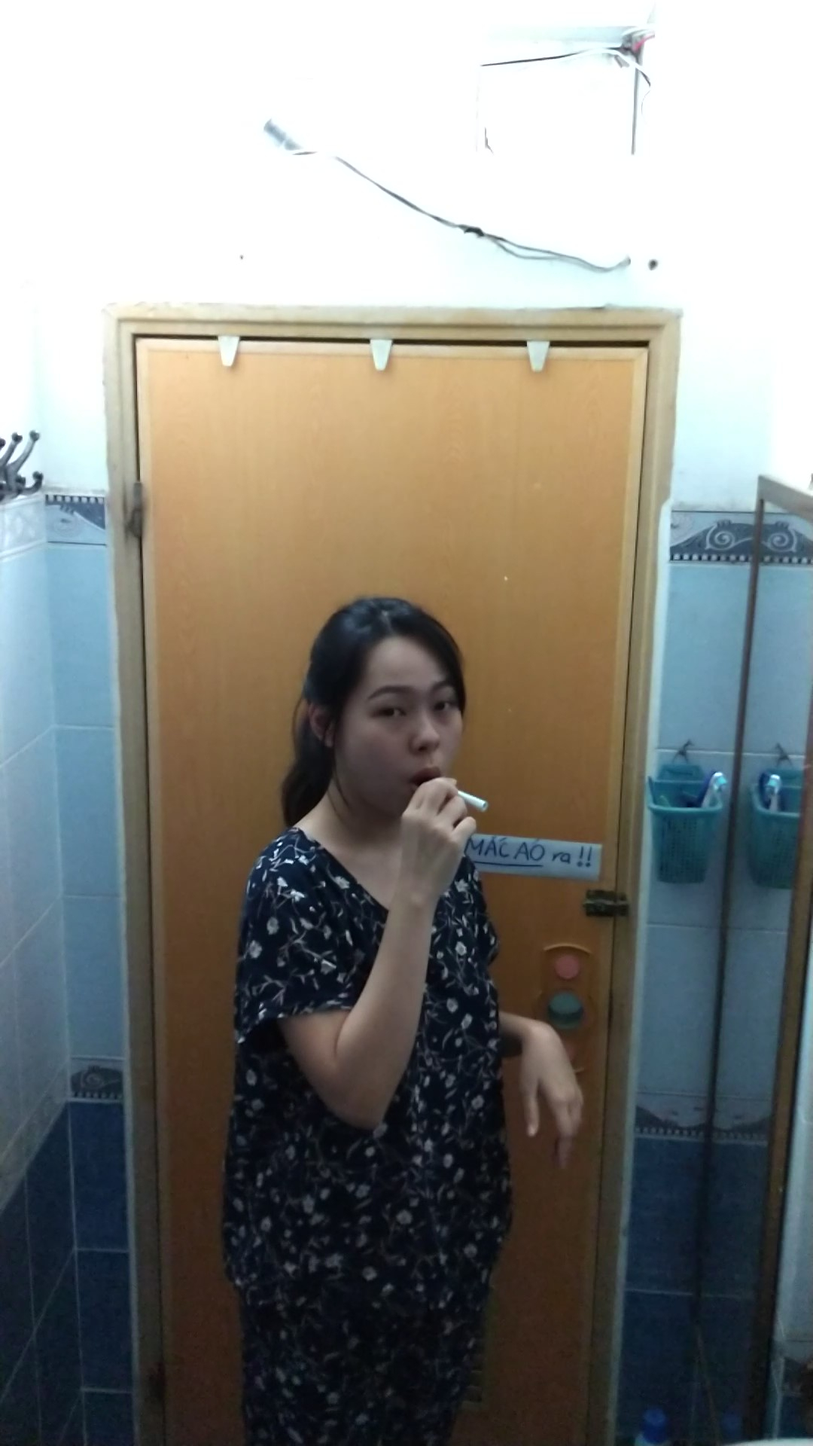cigarette: (459, 786, 494, 819)
person: (218, 580, 523, 1446)
